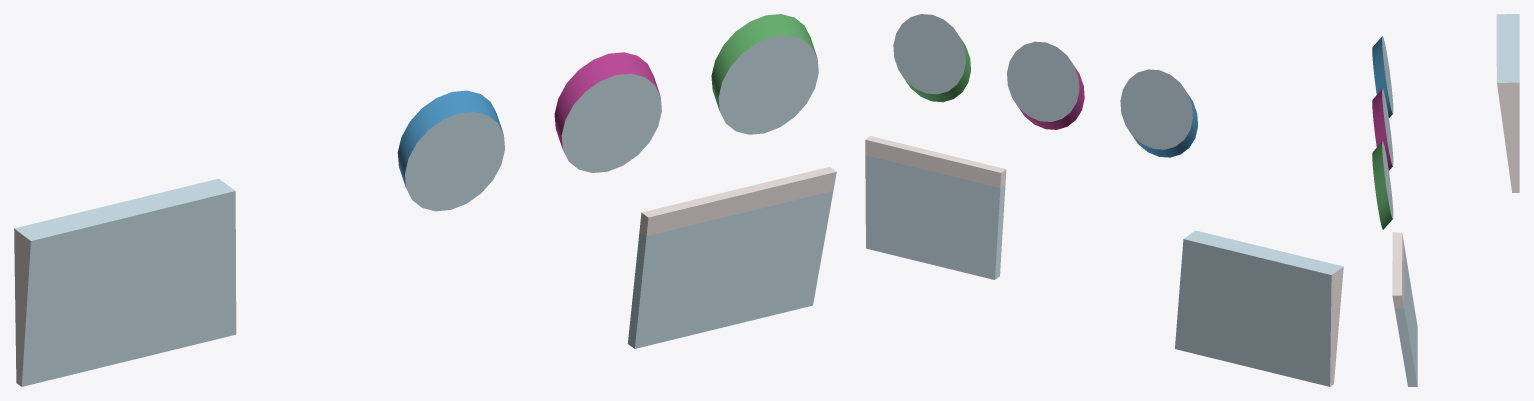
The model's file is edificio_prin_ventanas.obj.
3 views of the same model, side by side, from view 1: azimuth 30°, elevation 25°; view 2: azimuth 150°, elevation 25°; view 3: azimuth 270°, elevation 25° (orthographic). The views are drawn at different scales.
Visible parts, largest first — view 1: pasted__pCube1 group5, house:polySurface6 house:pasted__pasted__pasted__pCylinder1, house:pasted__polySurface4 house:pasted__pasted__pasted__pasted_, house:pasted__pasted__polySurface4 house:pasted__pasted__pasted_, house:pasted__pasted__pasted__pCylinder1 house:polySurface4; view 2: pasted__pCube1 group5, house:polySurface6 house:pasted__pasted__pasted__pCylinder1, house:pasted__pasted__pasted__pCylinder1 house:polySurface4, house:pasted__pasted__polySurface4 house:pasted__pasted__pasted_, house:pasted__polySurface4 house:pasted__pasted__pasted__pasted_; view 3: pasted__pCube1 group5, house:polySurface6 house:pasted__pasted__pasted__pCylinder1, house:pasted__pasted__pasted__pCylinder1 house:polySurface4, house:pasted__pasted__polySurface4 house:pasted__pasted__pasted_, house:pasted__polySurface4 house:pasted__pasted__pasted__pasted_.
Part boxes in pixels (x1,y1,x2,y2): pasted__pCube1 group5: (14,178,236,386); house:polySurface6 house:pasted__pasted__pasted__pCylinder1: (627,166,836,348); house:pasted__polySurface4 house:pasted__pasted__pasted__pasted_: (397,90,504,211); house:pasted__pasted__polySurface4 house:pasted__pasted__pasted_: (554,52,661,172); house:pasted__pasted__pasted__pCylinder1 house:polySurface4: (711,14,818,134); pasted__pCube1 group5: (1175,230,1343,386); house:polySurface6 house:pasted__pasted__pasted__pCylinder1: (865,136,1006,279); house:pasted__pasted__pasted__pCylinder1 house:polySurface4: (893,14,970,102); house:pasted__pasted__polySurface4 house:pasted__pasted__pasted_: (1007,41,1084,129); house:pasted__polySurface4 house:pasted__pasted__pasted__pasted_: (1120,69,1197,157); pasted__pCube1 group5: (1496,14,1519,192); house:polySurface6 house:pasted__pasted__pasted__pCylinder1: (1392,232,1417,386); house:pasted__pasted__pasted__pCylinder1 house:polySurface4: (1372,141,1393,229); house:pasted__pasted__polySurface4 house:pasted__pasted__pasted_: (1372,89,1393,170); house:pasted__polySurface4 house:pasted__pasted__pasted__pasted_: (1372,36,1393,117).
Size of the model in its own units: 37.22 by 15.6 by 9.48.
